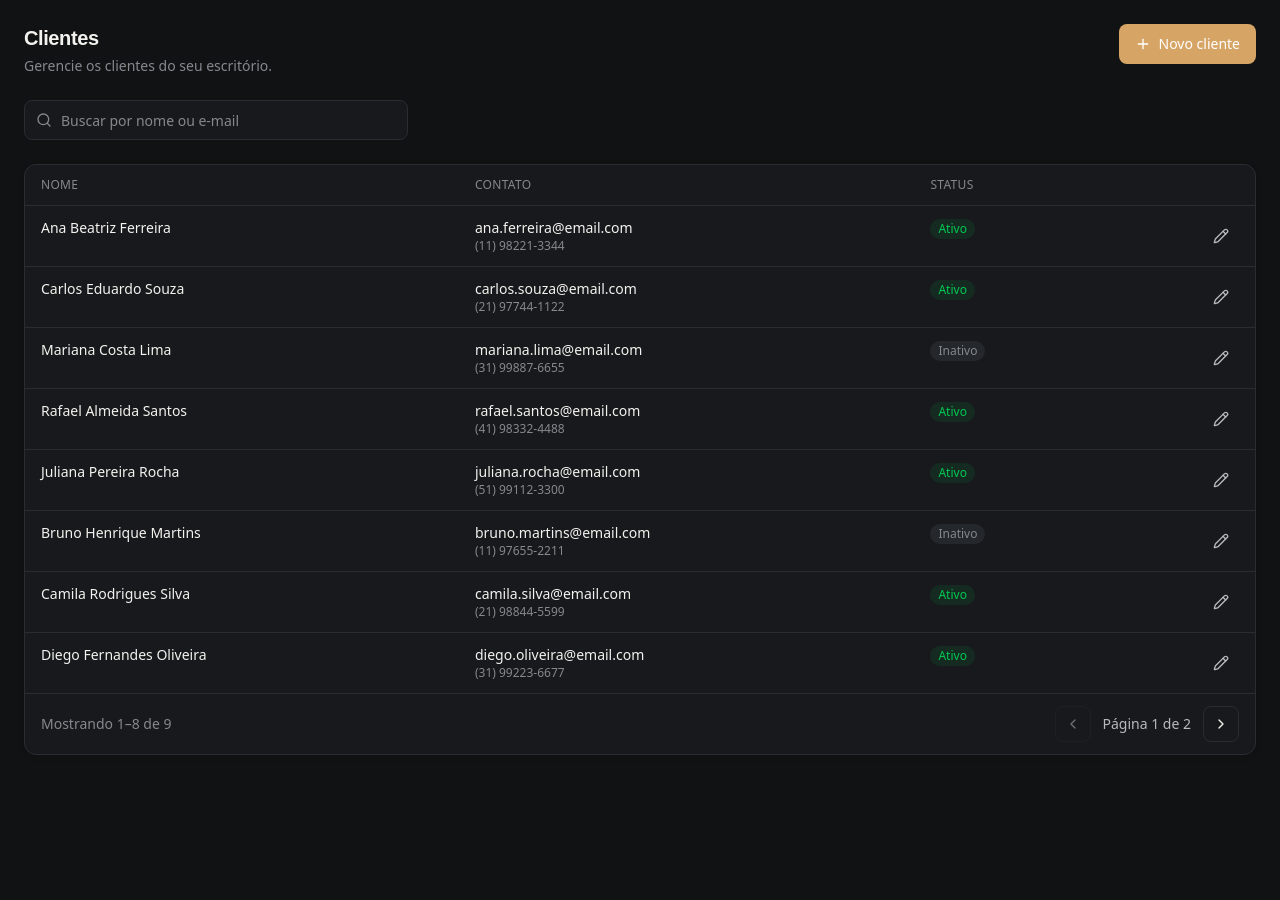
ClientsPage › filters rows by name/email as the user types (debounced)
Expected: the text "Ana Beatriz Ferreira" is shown, 41,218 -> 171,237
Type "carlos" into the field with placeholder "Buscar por nome ou e-mail" at (216, 120), box 24,100 -> 408,140
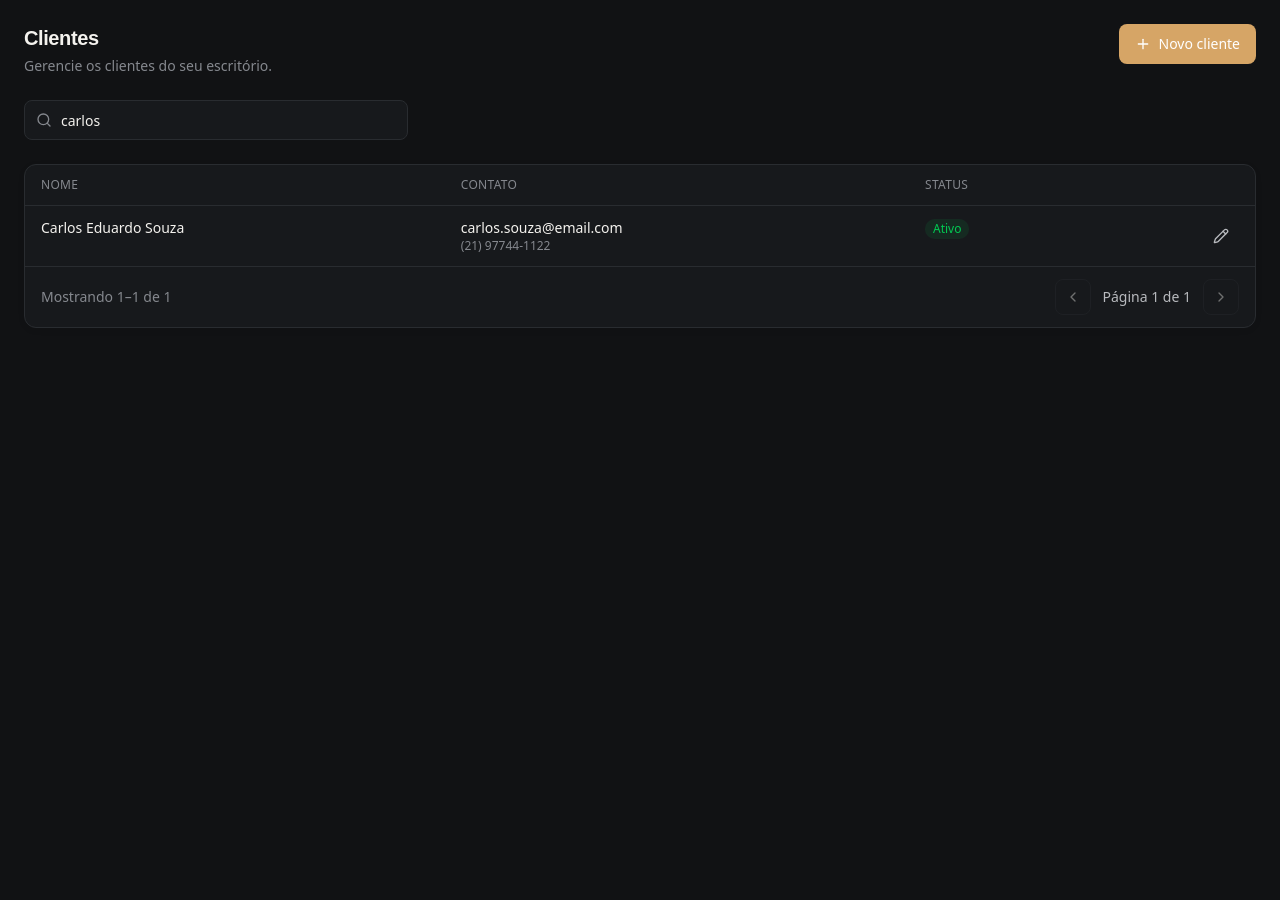
Expected: the text "Carlos Eduardo Souza" is shown, 41,218 -> 184,237
Now the text "Ana Beatriz Ferreira" is gone
